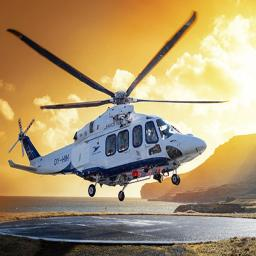helicopter: (7, 7, 228, 205)
